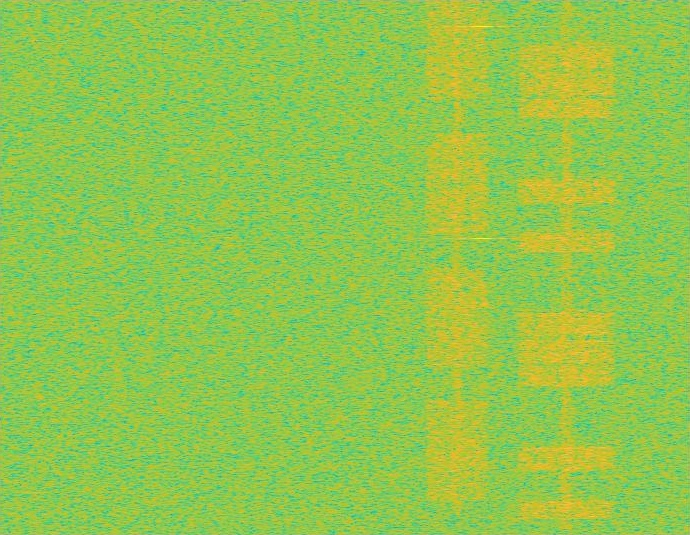5G: (423, 0, 492, 534)
DSSS: (560, 0, 573, 534), (453, 0, 462, 534)
LTE: (515, 0, 618, 534)
Radar: (475, 0, 489, 534)
